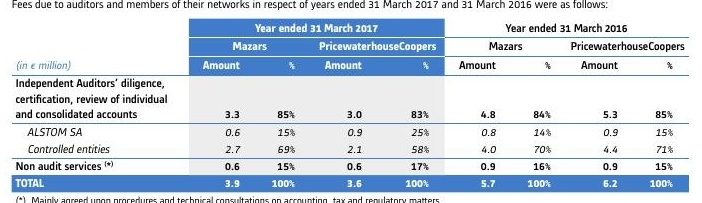table: (0, 0, 702, 203)
